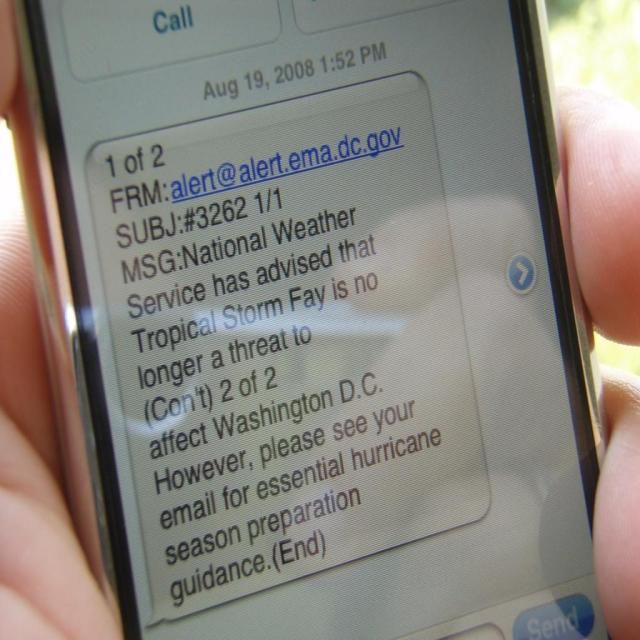mobile: (11, 0, 610, 640)
